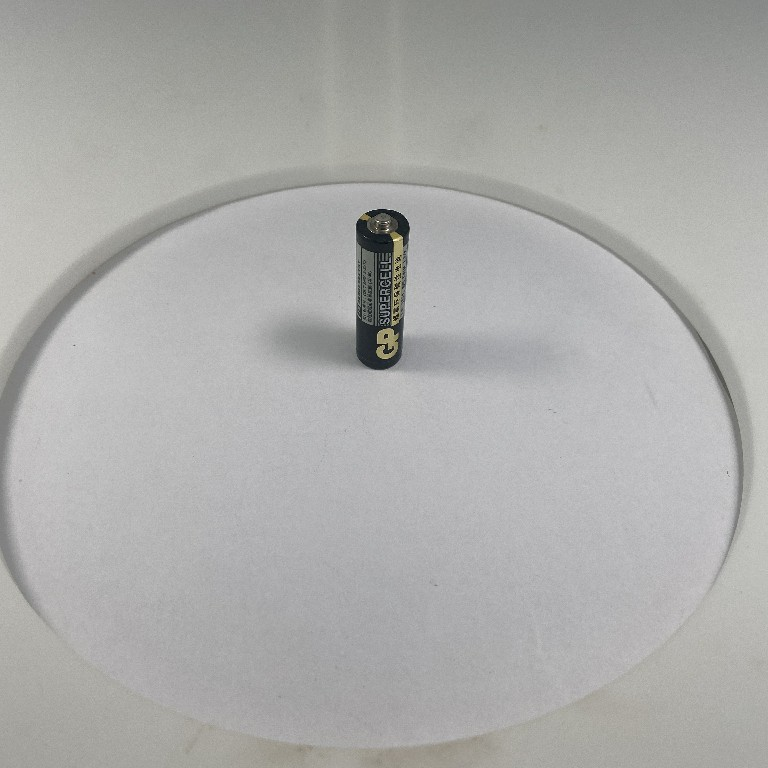charge: (349, 205, 415, 374)
